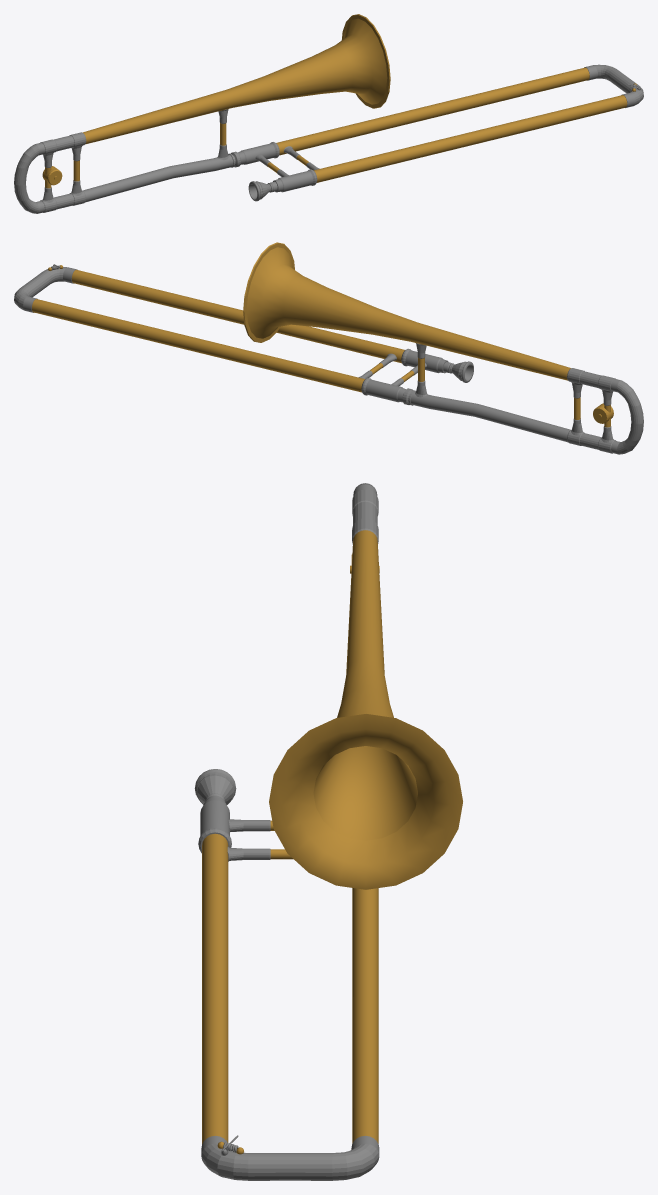
The model's file is trombone.fbx.
3 renders of one model, top to bottom at view 1: azimuth 30°, elevation 25°; view 2: azimuth 150°, elevation 25°; view 3: azimuth 270°, elevation 25°, orthographic. The views are drawn at different scales.
Visible parts, largest first — view 1: pCylinder23; view 2: pCylinder23; view 3: pCylinder23.
Boxes of the visible parts, x1,y1,x2,y2 form: pCylinder23: (14,14,643,213); pCylinder23: (14,242,643,454); pCylinder23: (194,483,462,1180).
Bounding box in the file's own units: 22.59 × 4.32 × 4.4.
